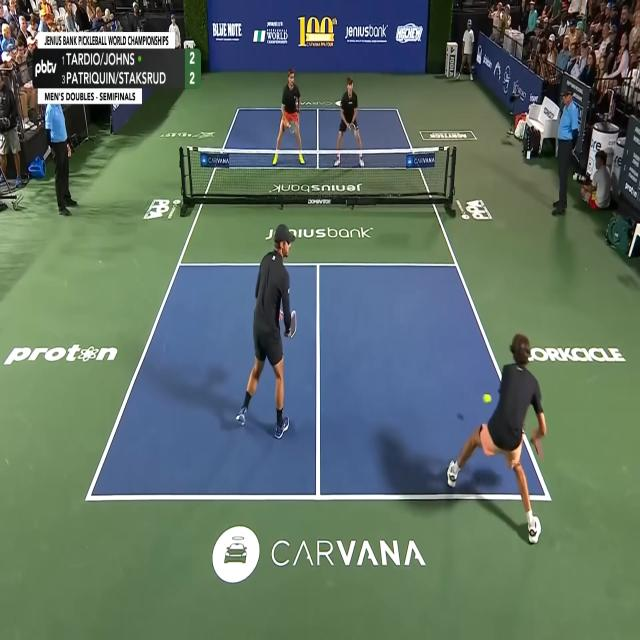ball: (482, 392, 492, 403)
